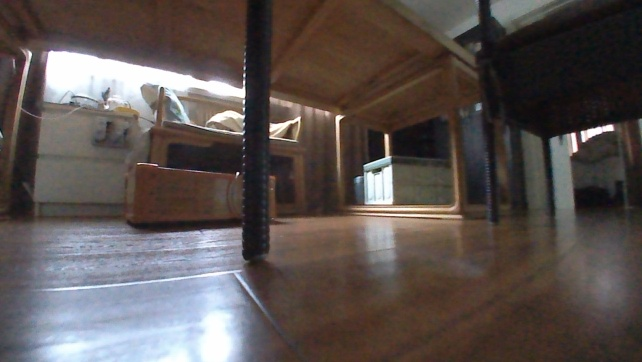cabinet: (30, 98, 143, 221)
